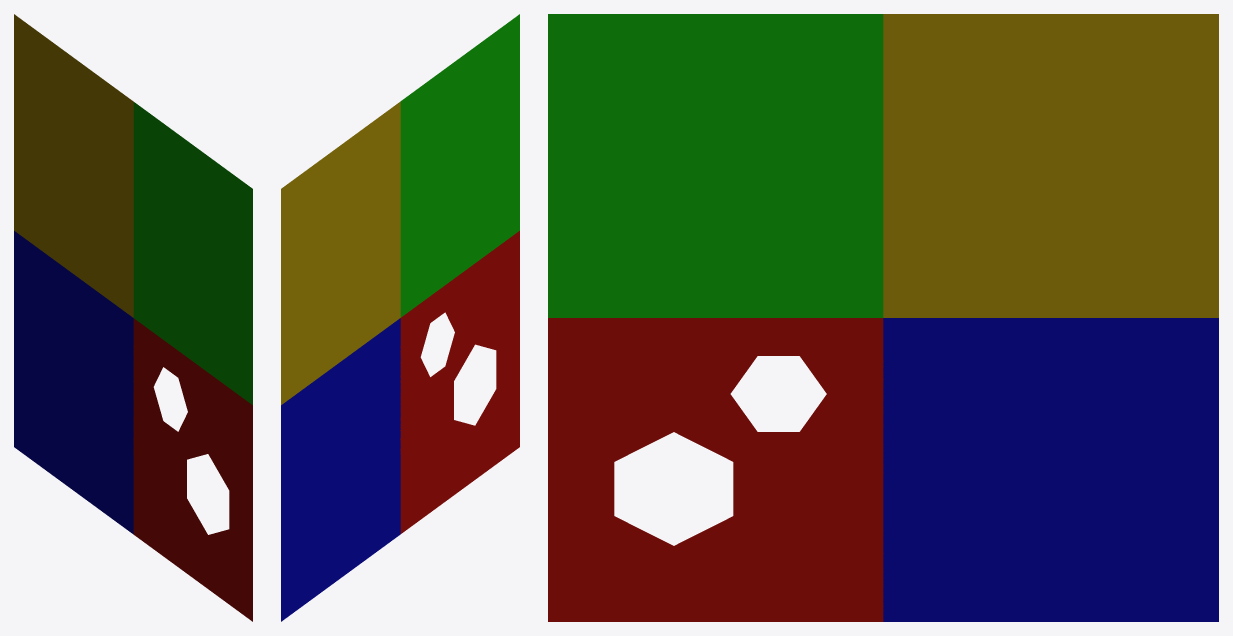
File: shooter_with_holes.obj
The picture shows the model from 3 angles, left to right: view 1: azimuth 30°, elevation 25°; view 2: azimuth 150°, elevation 25°; view 3: azimuth 270°, elevation 25°; orthographic projection. The views are drawn at different scales.
Parts seen in each view (by area): view 1: 10_color_1_1_0_Plane.003, 10_color_0_0_1_Plane.002, 10_color_0_1_0_Plane, 10_color_1_0_0_Plane.001; view 2: 10_color_1_1_0_Plane.003, 10_color_0_0_1_Plane.002, 10_color_0_1_0_Plane, 10_color_1_0_0_Plane.001; view 3: 10_color_1_1_0_Plane.003, 10_color_0_0_1_Plane.002, 10_color_0_1_0_Plane, 10_color_1_0_0_Plane.001.
Boxes of the visible parts, left/top/right/bottom form: 10_color_1_1_0_Plane.003: left=14, top=14, right=133, bottom=317; 10_color_0_0_1_Plane.002: left=14, top=231, right=133, bottom=534; 10_color_0_1_0_Plane: left=133, top=102, right=252, bottom=404; 10_color_1_0_0_Plane.001: left=133, top=318, right=252, bottom=621; 10_color_1_1_0_Plane.003: left=281, top=101, right=400, bottom=404; 10_color_0_0_1_Plane.002: left=281, top=318, right=400, bottom=621; 10_color_0_1_0_Plane: left=400, top=14, right=519, bottom=317; 10_color_1_0_0_Plane.001: left=400, top=231, right=519, bottom=533; 10_color_1_1_0_Plane.003: left=883, top=14, right=1218, bottom=317; 10_color_0_0_1_Plane.002: left=883, top=318, right=1218, bottom=621; 10_color_0_1_0_Plane: left=548, top=14, right=883, bottom=317; 10_color_1_0_0_Plane.001: left=548, top=318, right=883, bottom=621.
Size of the model in its own units: 0 by 1.22 by 1.22.
